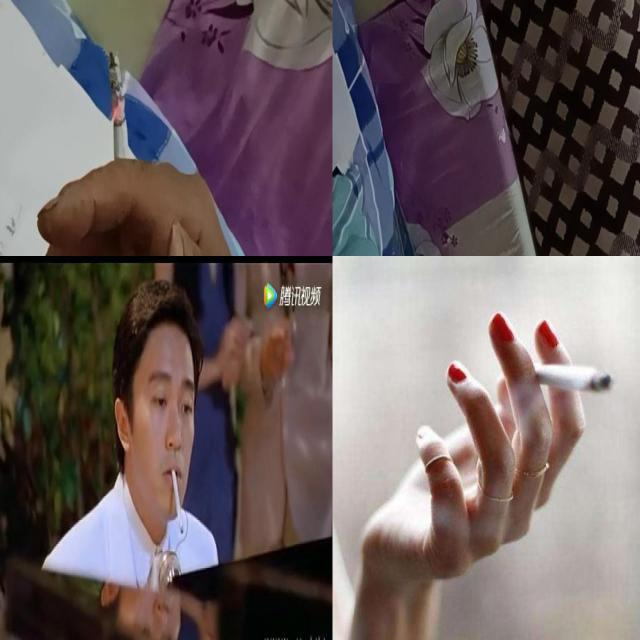smoking: (496, 344, 616, 404), (108, 51, 136, 256), (171, 469, 185, 536)
